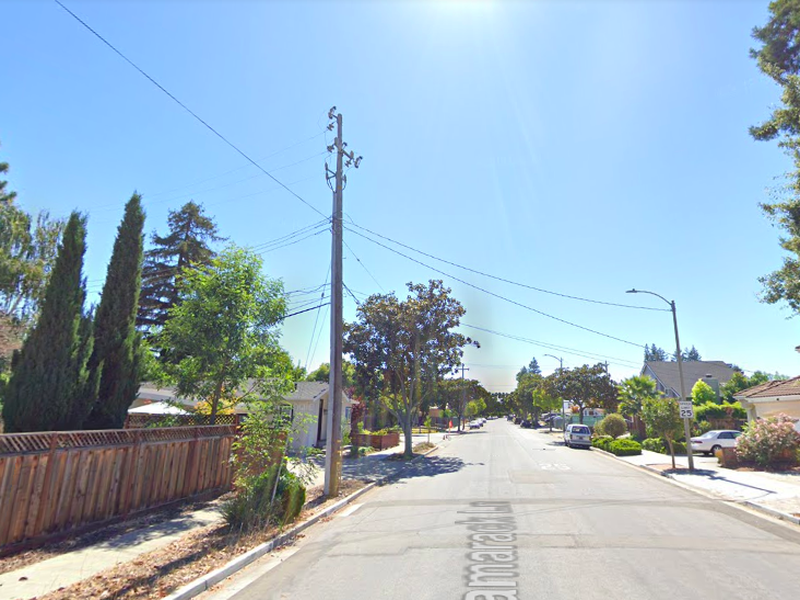tree: (345, 277, 480, 458)
utility_pole: (314, 97, 369, 206)
